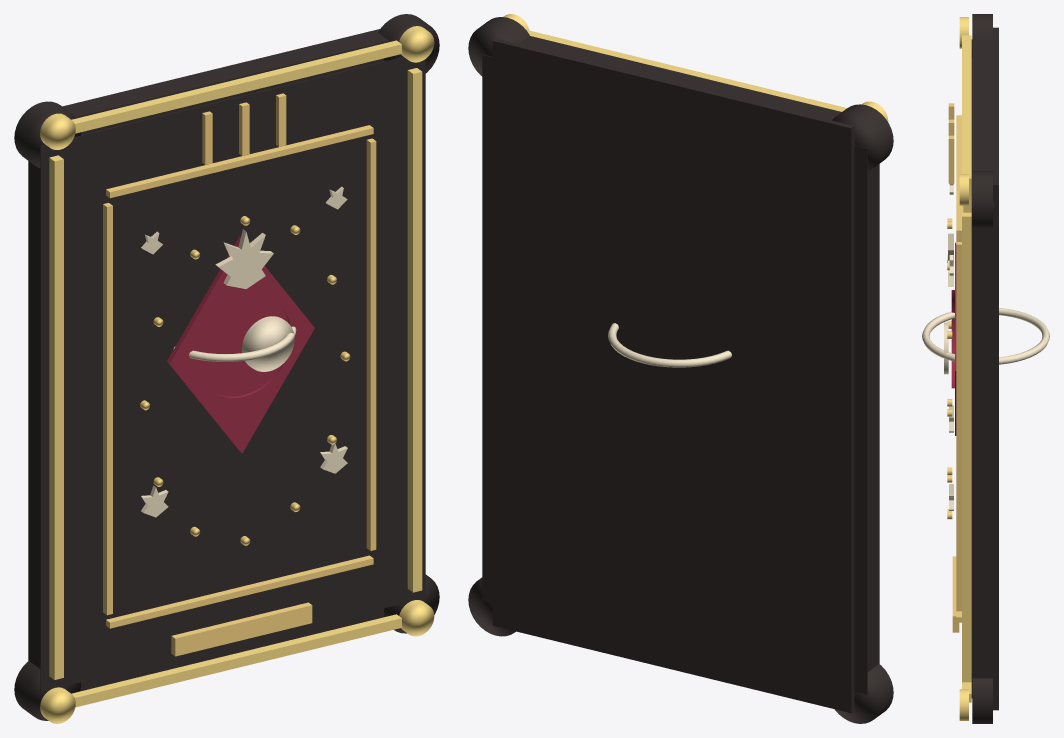
The model's file is tarot-card.glb.
3 renders of one model, left to right at view 1: azimuth 30°, elevation 25°; view 2: azimuth 150°, elevation 25°; view 3: azimuth 270°, elevation 25°, orthographic. The views are drawn at different scales.
Parts seen in each view (by area): view 1: beveled thick tarot body, golden beveled side rails, inner oracle frame and name plate, central enamel window, moon and solar oracle sigils, roman numeral and constellation studs; view 2: beveled thick tarot body, golden beveled side rails, moon and solar oracle sigils; view 3: beveled thick tarot body, golden beveled side rails, inner oracle frame and name plate, moon and solar oracle sigils, roman numeral and constellation studs, central enamel window.
Part boxes in pixels (x1,y1,x2,y2): beveled thick tarot body: [14, 14, 439, 720]; golden beveled side rails: [40, 26, 434, 723]; inner oracle frame and name plate: [103, 125, 376, 656]; central enamel window: [167, 236, 314, 452]; moon and solar oracle sigils: [141, 186, 347, 517]; roman numeral and constellation studs: [140, 93, 350, 545]; beveled thick tarot body: [468, 17, 893, 723]; golden beveled side rails: [503, 14, 888, 121]; moon and solar oracle sigils: [608, 323, 731, 367]; beveled thick tarot body: [971, 14, 998, 723]; golden beveled side rails: [959, 17, 971, 720]; inner oracle frame and name plate: [952, 115, 963, 632]; moon and solar oracle sigils: [922, 183, 1049, 510]; roman numeral and constellation studs: [947, 103, 954, 519]; central enamel window: [951, 242, 956, 435].
Bounding box in the file's own units: 1.57 × 2.21 × 0.468.
